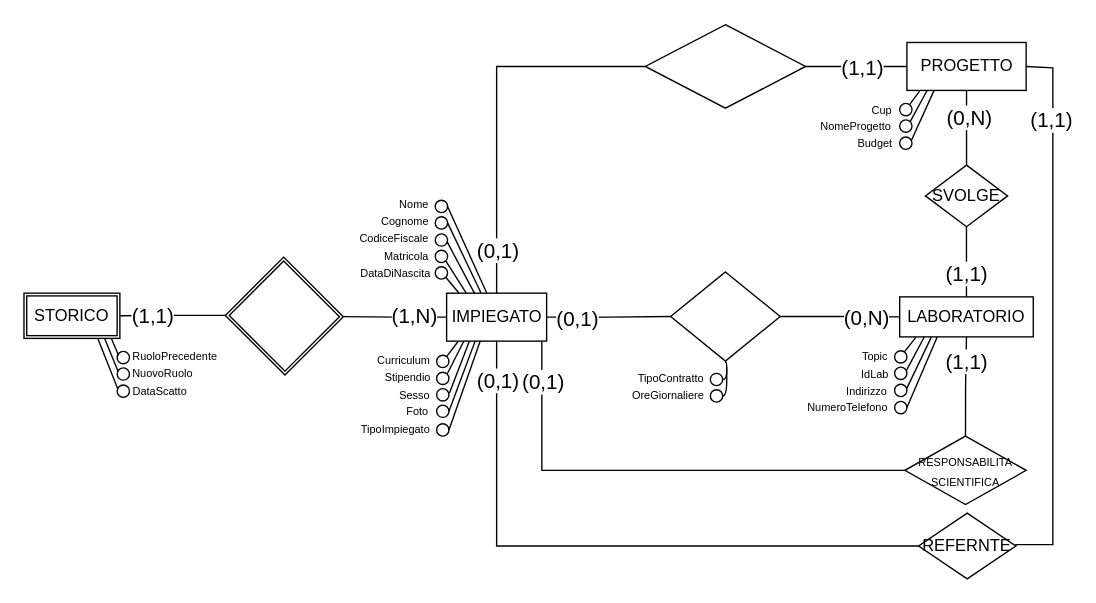
Image size: 1096x603. Some labels were removed from this diagram. Here are the shapes that lost their labels. From the top down, the centre of each, then its label:
At [725,65]: "RESPONSABILITA".
At [284,315]: "IDENTIFICANTE".
At [724,316]: "AFFERENZA".
